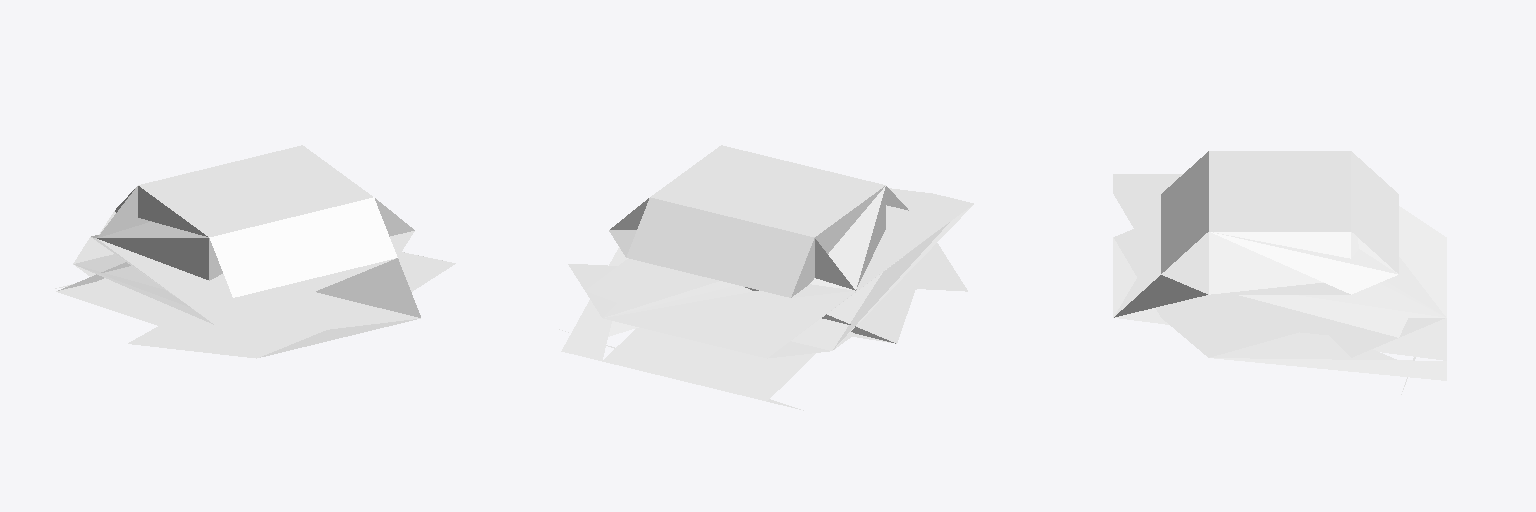
Rendered from Character0_Fall0.obj.
The picture shows the model from 3 angles: view 1: azimuth 30°, elevation 25°; view 2: azimuth 150°, elevation 25°; view 3: azimuth 270°, elevation 25°; orthographic projection.
Bounding box in the file's own units: 8 × 3 × 7.